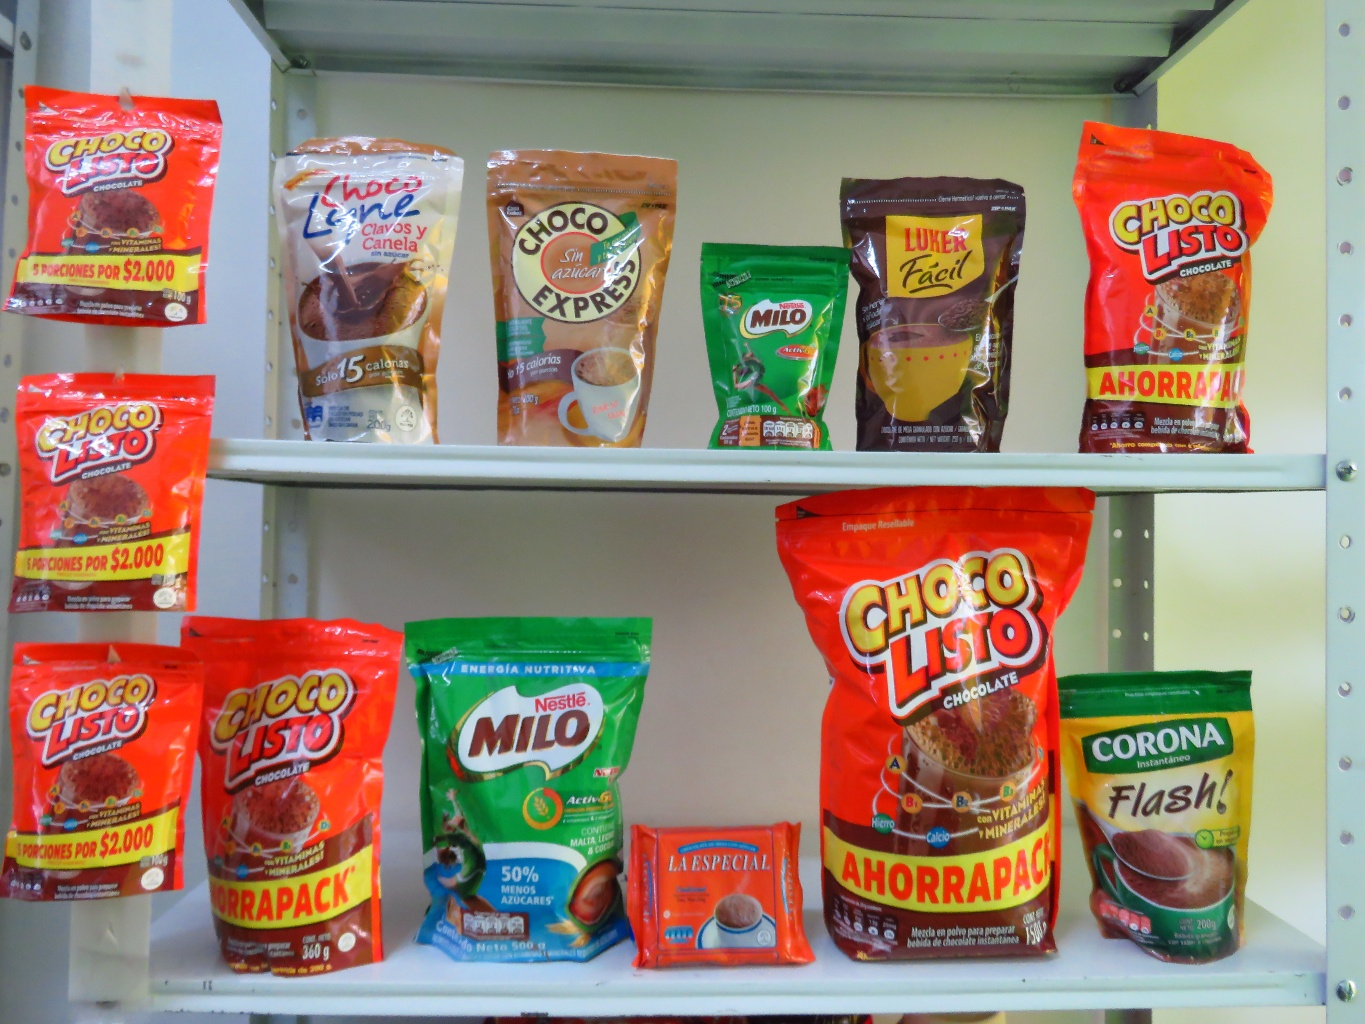COL0170103DYP1,500: (774, 482, 1091, 967)
COL0170103DYP10000: (11, 76, 237, 326)
COL0170103DYP36000: (179, 602, 420, 979)
COL0170103DYP40000: (1071, 106, 1266, 454)
COL0170203DYP10000: (702, 232, 847, 449)
COL0170205DYP50000: (404, 606, 662, 969)
